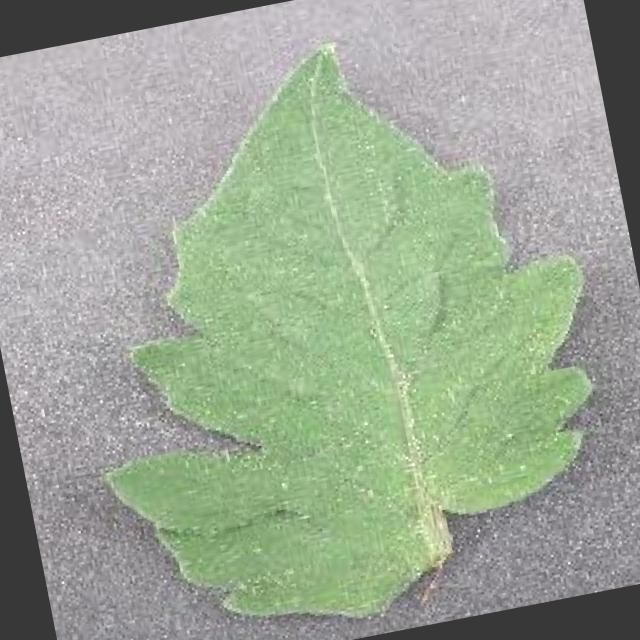healthy: (100, 49, 592, 619)
